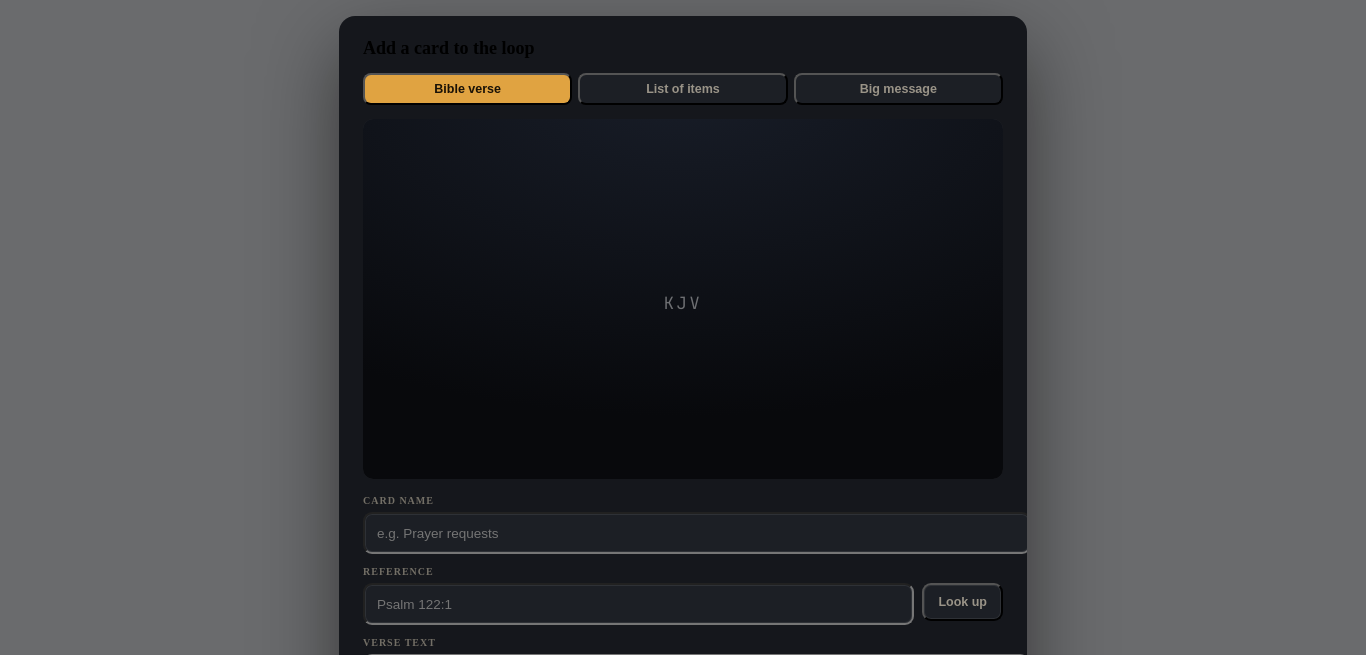
Test case: PreCardEditor verse look-up › shows a message when the verse is absent from the chapter
Type "psalm 122:9" into the field with placeholder "Psalm 122:1" at (639, 604), box 363,583 -> 914,625
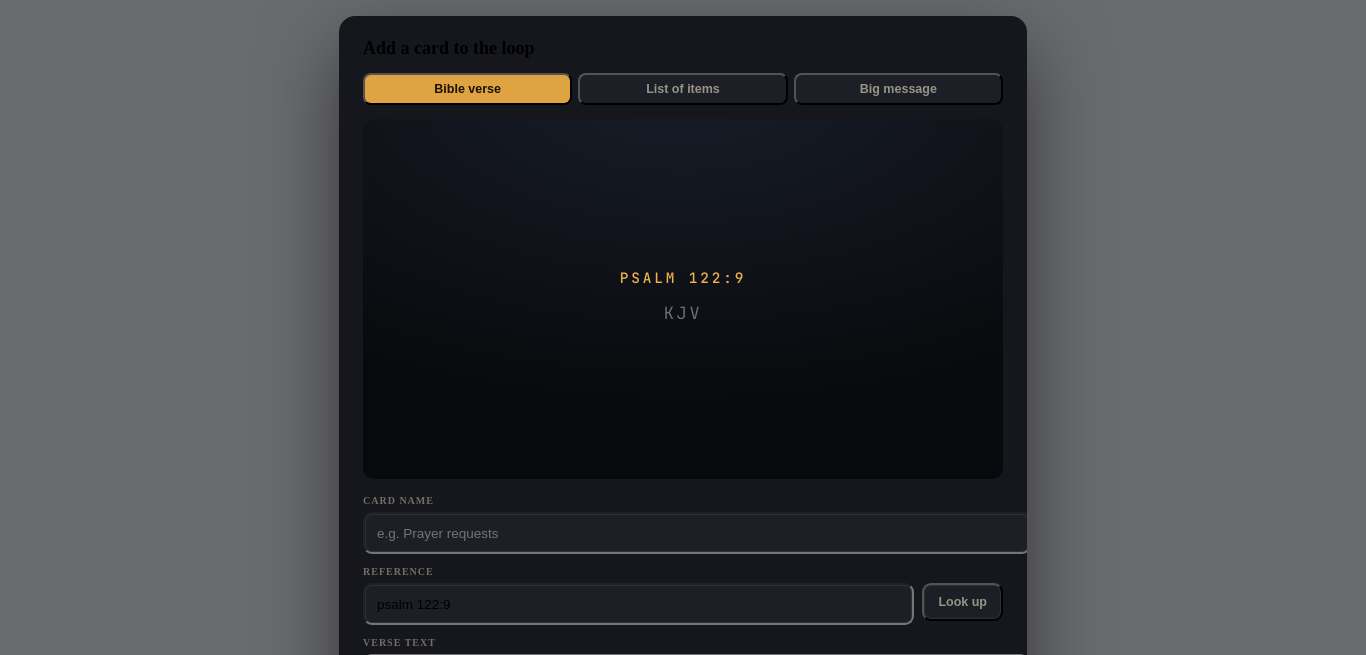
Click the button "Look up" at (963, 602), box 922,583 -> 1003,621
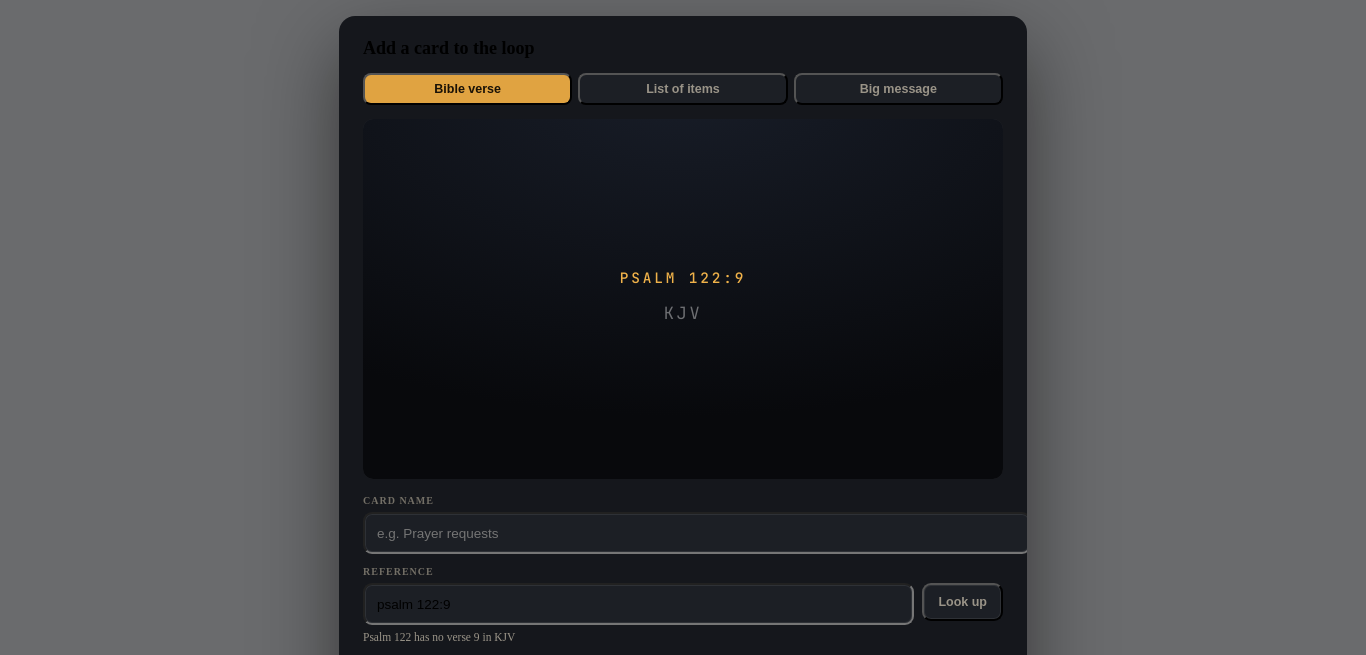
Expected: the text "Psalm 122 has no verse 9 in KJV" is shown, 363,631 -> 515,643
